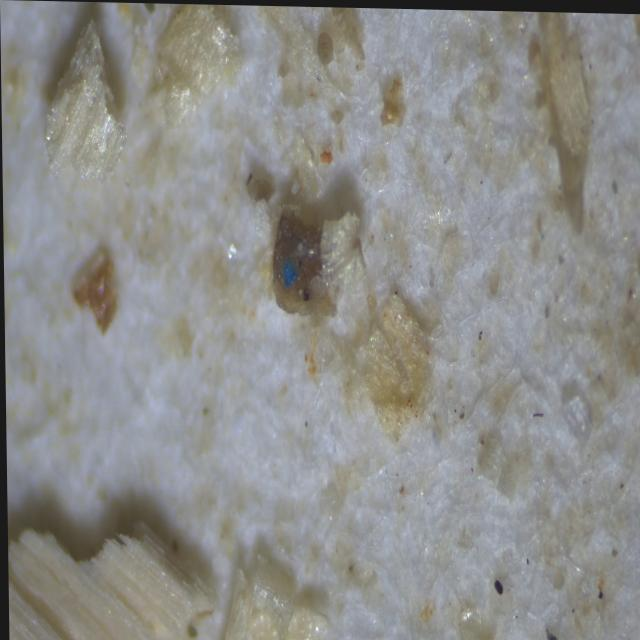microplastic: (277, 262, 299, 293)
